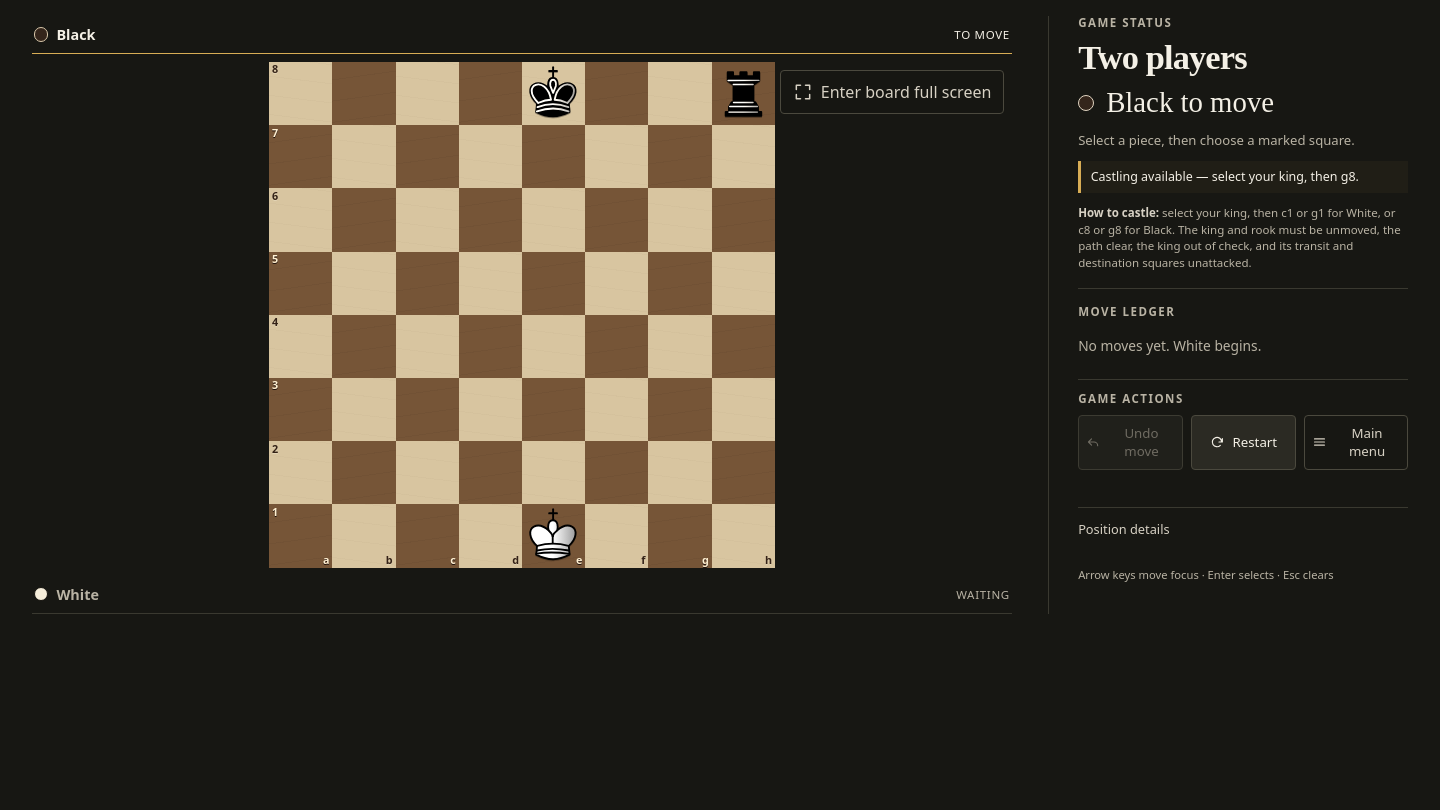
Test: two-player game screen › casts Black kingside by click and moves the rook
Expected: the element with class "game__castle-help" shows "king and rook must be unmoved", [1078,205,1401,270]
Click the button named "e8, Black king".
click(554, 94)  # box [522,62,585,125]
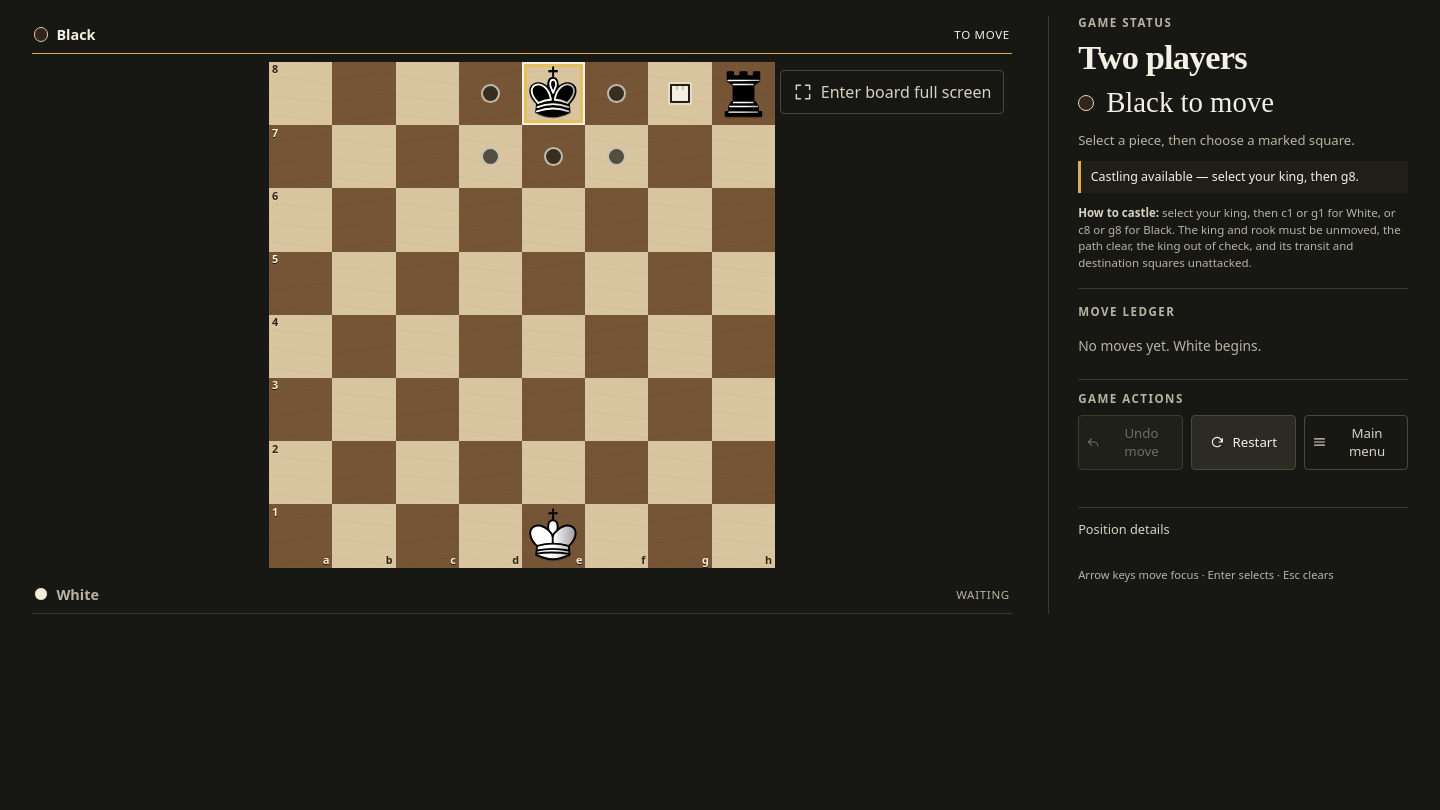
Click the button named "g8, empty".
click(680, 94)  # box [648,62,712,125]
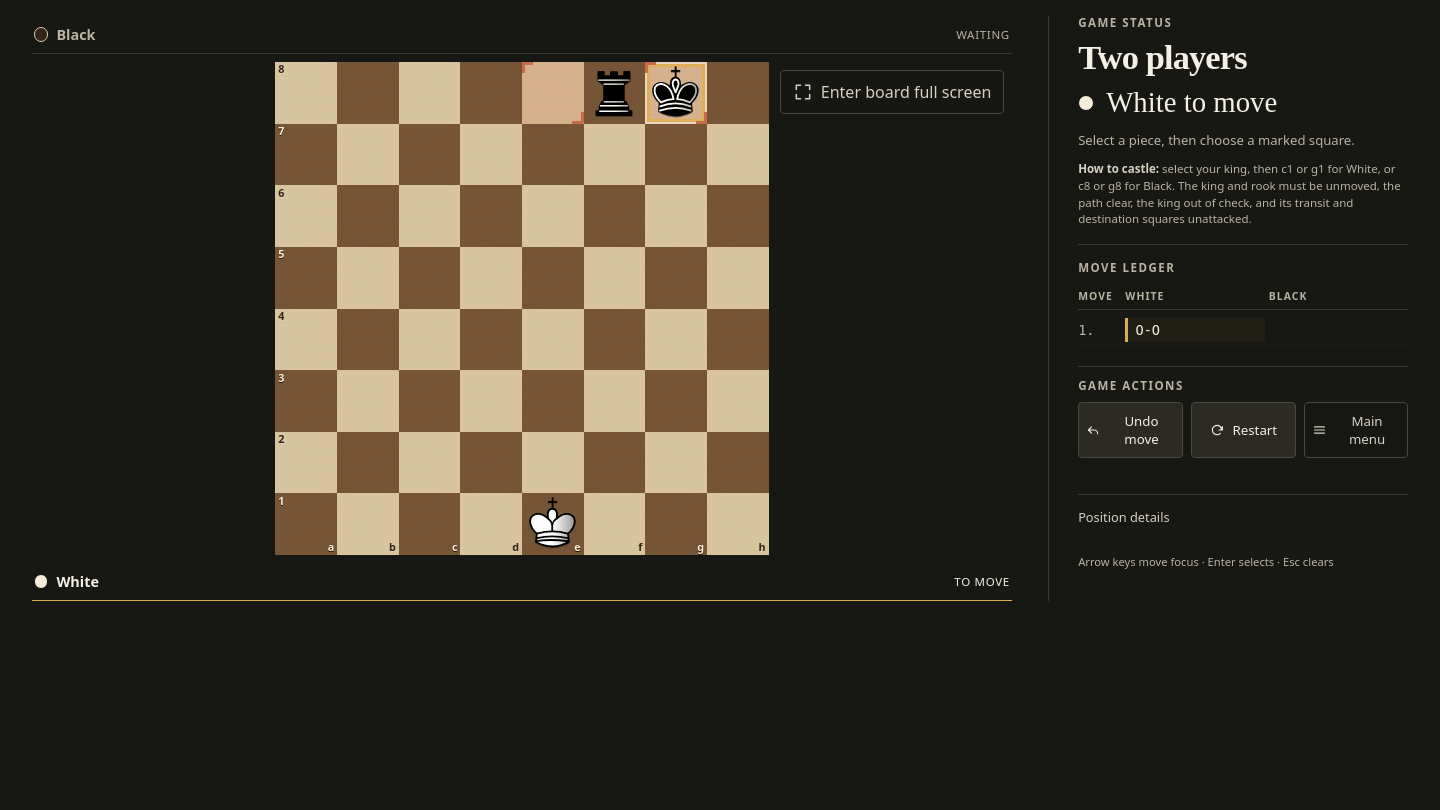
Now the text "O-O" is shown, box [1125,318,1265,342]
Now the text with class "game__castle-availability" is gone
